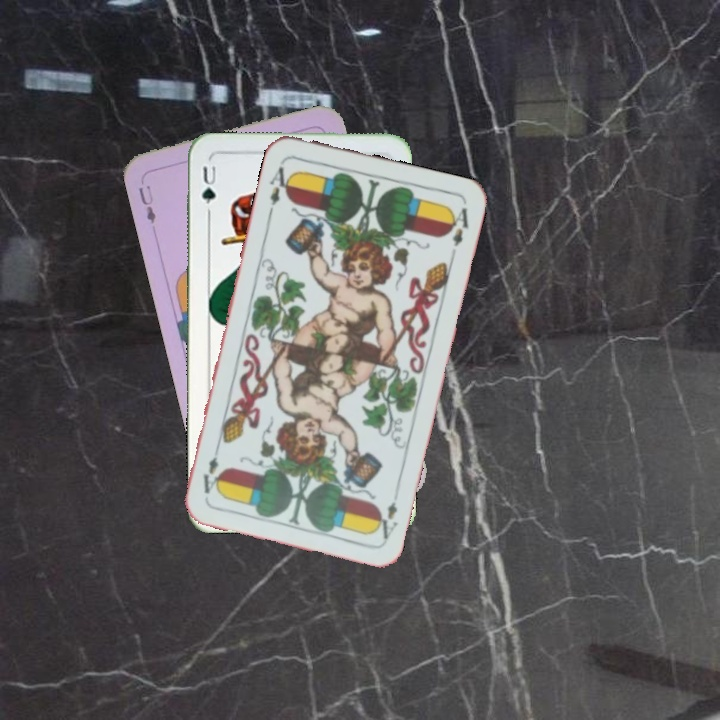EA: (265, 158, 295, 217), (371, 497, 401, 542)
EU: (134, 181, 159, 226)
GU: (198, 161, 219, 207)
